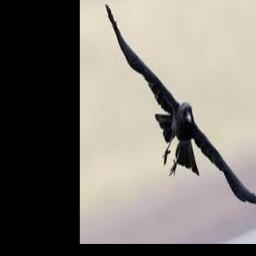Crow: (104, 2, 256, 208)
